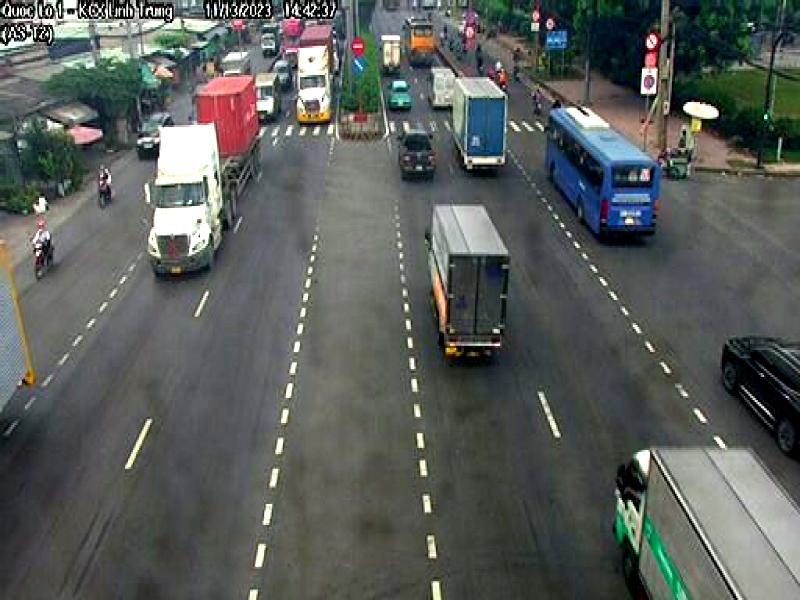bus: (538, 106, 664, 246)
truck: (146, 74, 262, 279)
